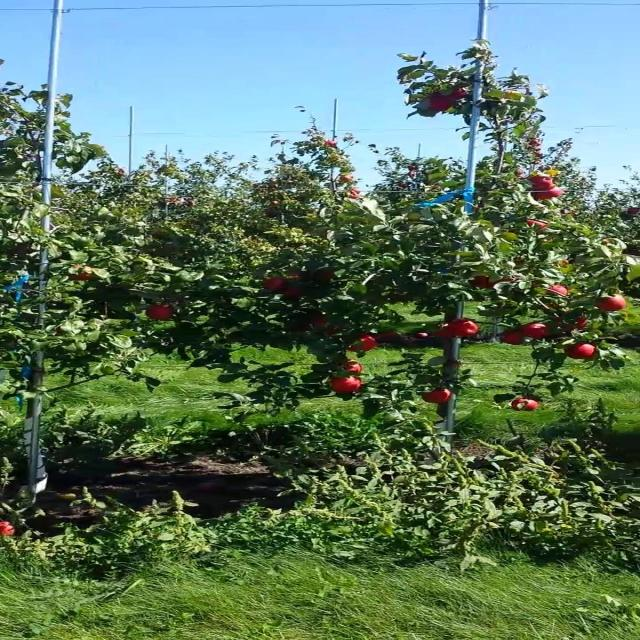apple: (447, 320, 480, 337), (596, 296, 626, 312), (568, 344, 597, 360), (333, 380, 363, 395), (426, 96, 453, 112), (561, 316, 588, 332), (525, 324, 549, 340), (532, 188, 562, 200), (355, 336, 377, 352), (511, 400, 540, 412), (532, 176, 555, 191), (426, 392, 453, 404), (148, 308, 174, 320), (70, 268, 94, 281), (262, 280, 286, 292), (504, 332, 526, 345), (447, 88, 469, 100), (433, 328, 455, 340), (540, 188, 562, 200), (476, 276, 496, 288), (312, 316, 327, 328), (547, 288, 569, 296), (285, 288, 300, 299), (575, 316, 588, 328), (532, 220, 548, 229), (348, 364, 363, 373), (319, 272, 334, 281), (504, 92, 521, 99), (291, 276, 299, 280)
